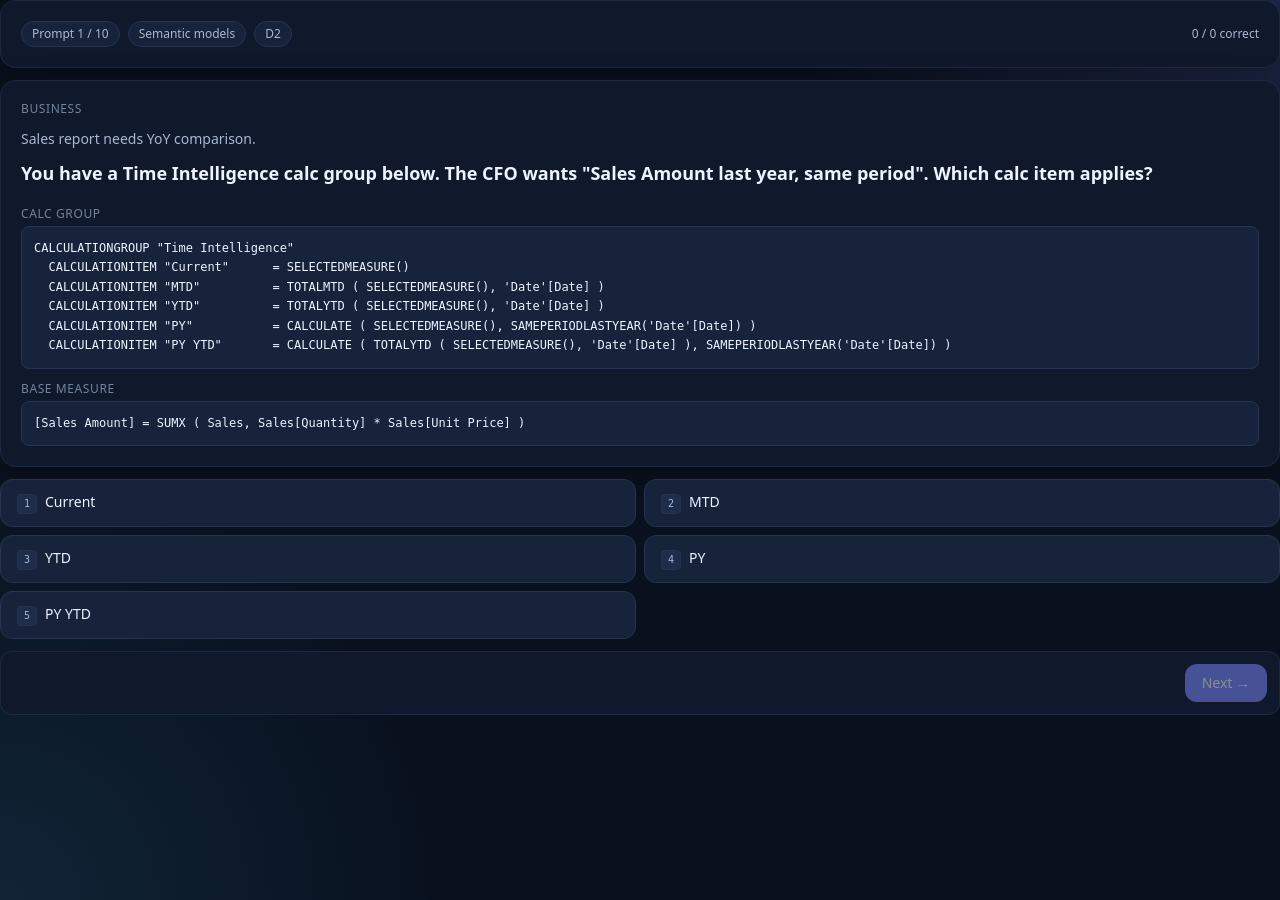
Test: CalcGroupsLabView › 4. clicking the correct option reveals the explanation panel
This screenshot has width=1280, height=900.
Step 1. Click the radio button labelled "4 PY" → {"x": 671, "y": 560}, box [644, 535, 1279, 583]
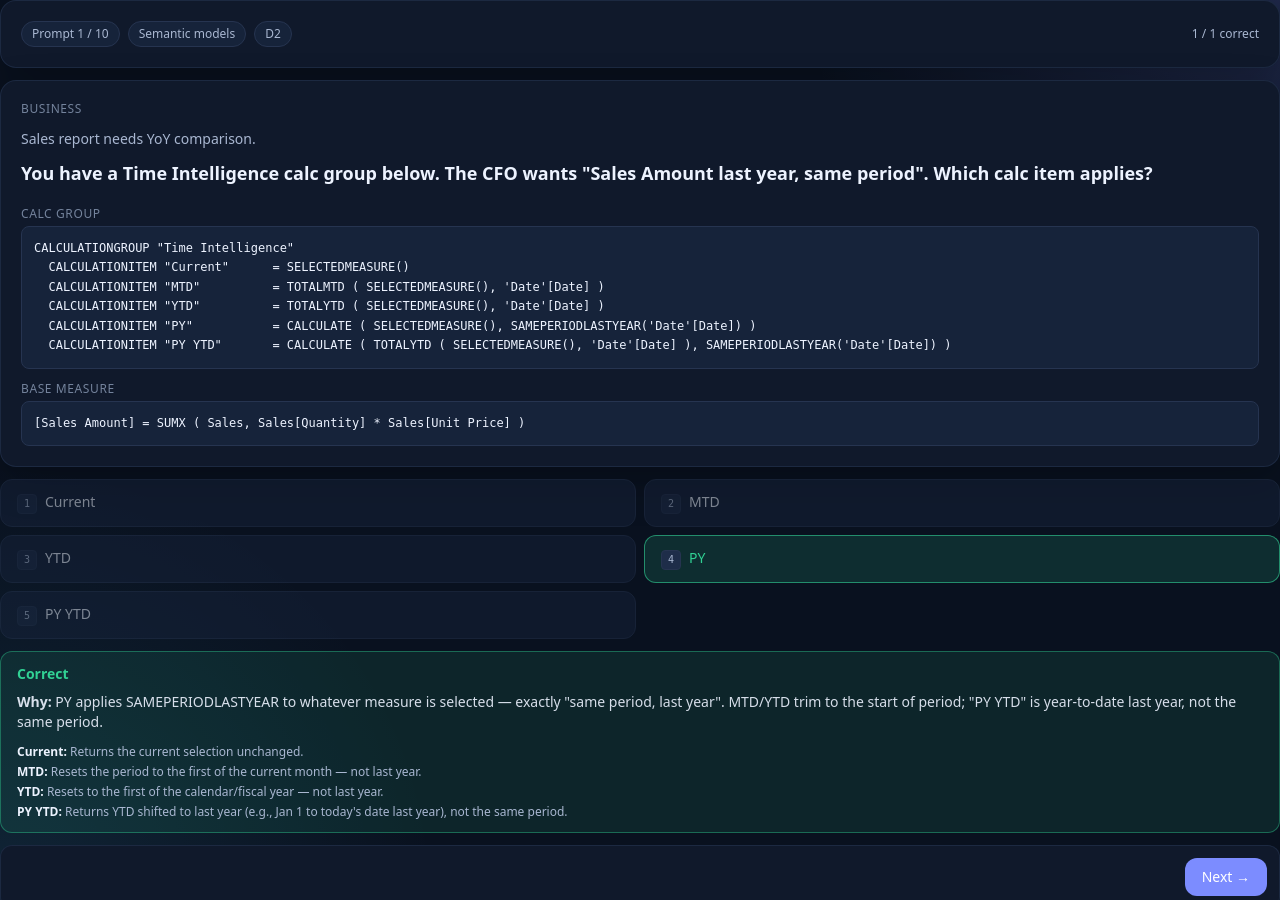
Now the text "Correct" is shown, box [17, 664, 69, 683]
Now the text "Why:" is shown, box [17, 692, 52, 711]
